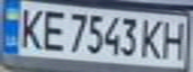3: (118, 15, 142, 58)
4: (103, 14, 124, 56)
5: (84, 11, 106, 55)
7: (63, 10, 87, 54)
E: (36, 7, 69, 52)
H: (160, 18, 193, 61)
K: (15, 4, 48, 51), (139, 16, 166, 60)
